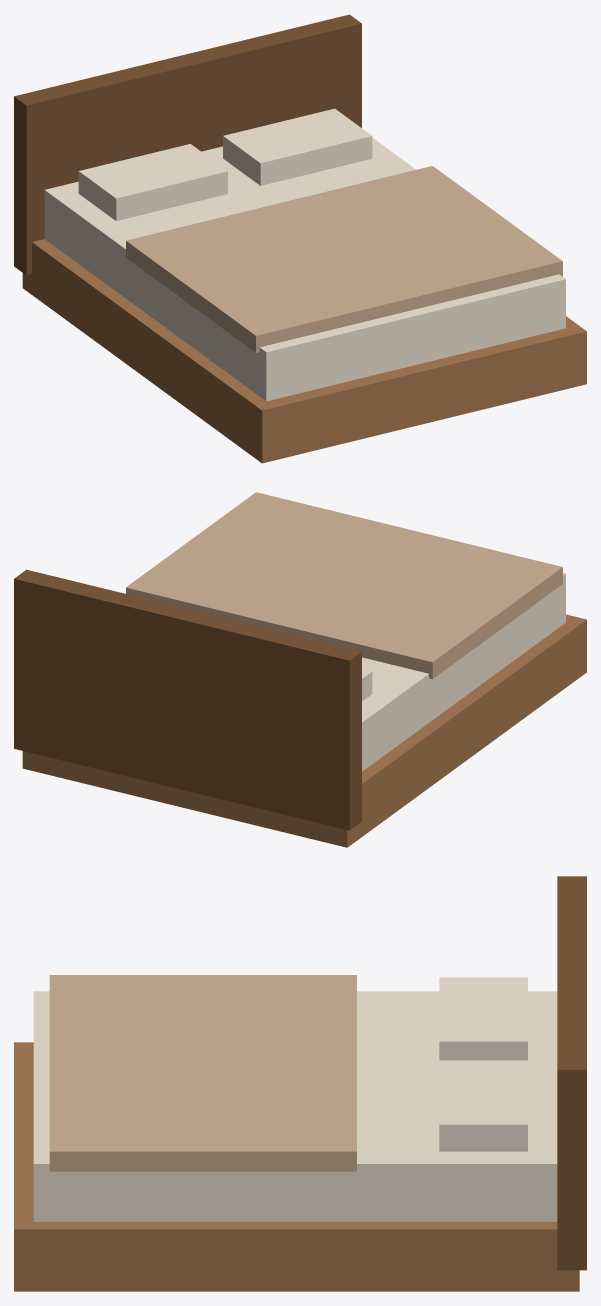
File: bed-modern-01.glb
3 views of the same model, one above another, from view 1: azimuth 30°, elevation 25°; view 2: azimuth 150°, elevation 25°; view 3: azimuth 270°, elevation 25° (orthographic). The views are drawn at different scales.
Parts seen in each view (by area): view 1: blanket, mattress, frame, headboard, pillow-left, pillow-right; view 2: headboard, blanket, frame, mattress; view 3: blanket, mattress, frame, headboard, pillow-right, pillow-left.
Boxes of the visible parts, x1,y1,x2,y2 form: blanket: [126, 166, 562, 352]; mattress: [44, 137, 565, 401]; frame: [22, 239, 586, 463]; headboard: [14, 14, 361, 275]; pillow-left: [78, 144, 227, 220]; pillow-right: [223, 108, 372, 185]; headboard: [14, 569, 361, 830]; blanket: [126, 492, 562, 679]; frame: [22, 614, 586, 847]; mattress: [362, 573, 565, 771]; blanket: [49, 975, 356, 1171]; mattress: [33, 991, 557, 1221]; frame: [14, 1042, 579, 1291]; headboard: [557, 876, 586, 1270]; pillow-right: [439, 1060, 527, 1151]; pillow-left: [439, 977, 527, 1060].
Size of the model in its own units: 1.86 by 1.01 by 2.33.
